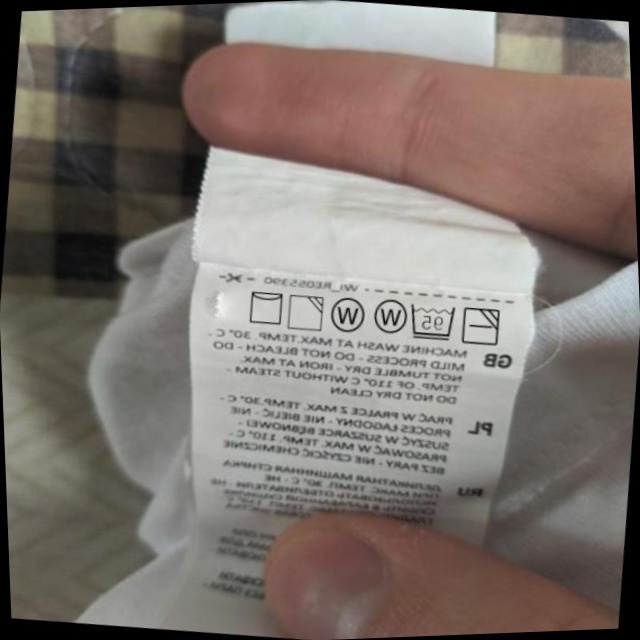95C: (405, 299, 459, 344)
dry_flat_in_shade: (459, 302, 504, 350)
line_dry: (243, 285, 288, 329)
shade_dry: (284, 290, 327, 335)
wet_clean: (369, 292, 410, 338), (327, 293, 368, 338)
